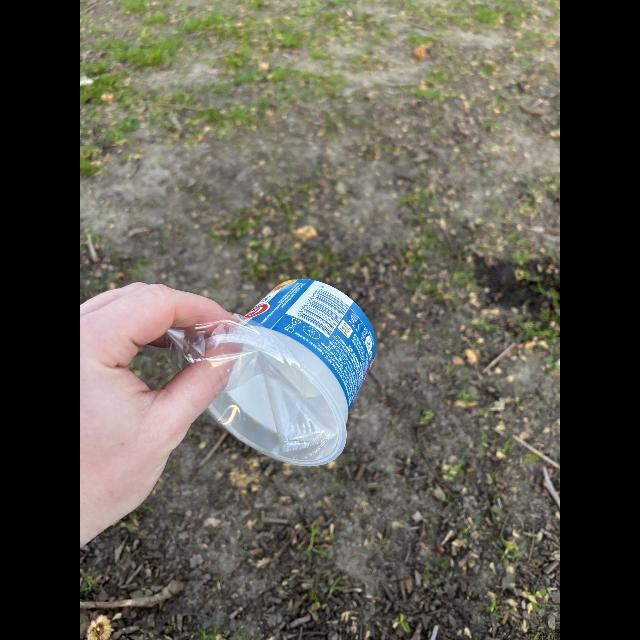Plastic: (168, 277, 374, 473)
